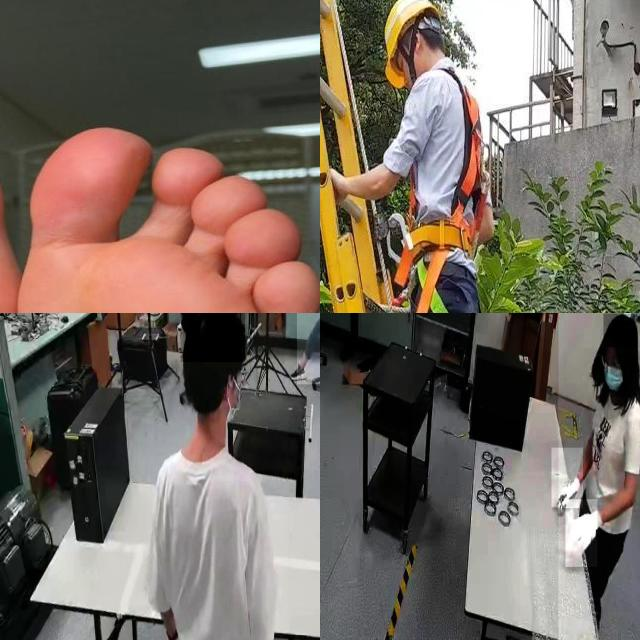Barefoots: (23, 130, 308, 313)
Harness: (395, 67, 487, 313)
face_mask: (600, 353, 626, 397)
hand_glove: (566, 499, 598, 568), (551, 448, 583, 508)
head_nohelmet: (180, 313, 245, 363), (604, 314, 638, 348)
person: (147, 313, 288, 640), (558, 313, 640, 640), (297, 313, 320, 385)
shoes: (290, 363, 306, 383)
